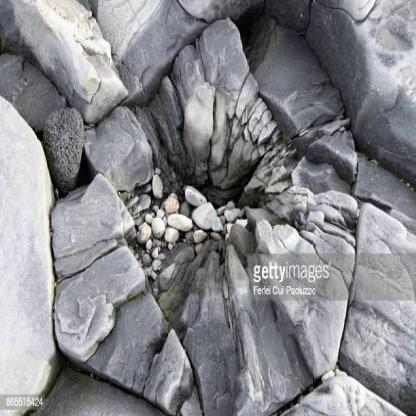Igneous_Basalt: (52, 253, 192, 408), (247, 17, 365, 179), (179, 249, 276, 407), (44, 168, 144, 262), (72, 105, 164, 184), (190, 30, 255, 112)
